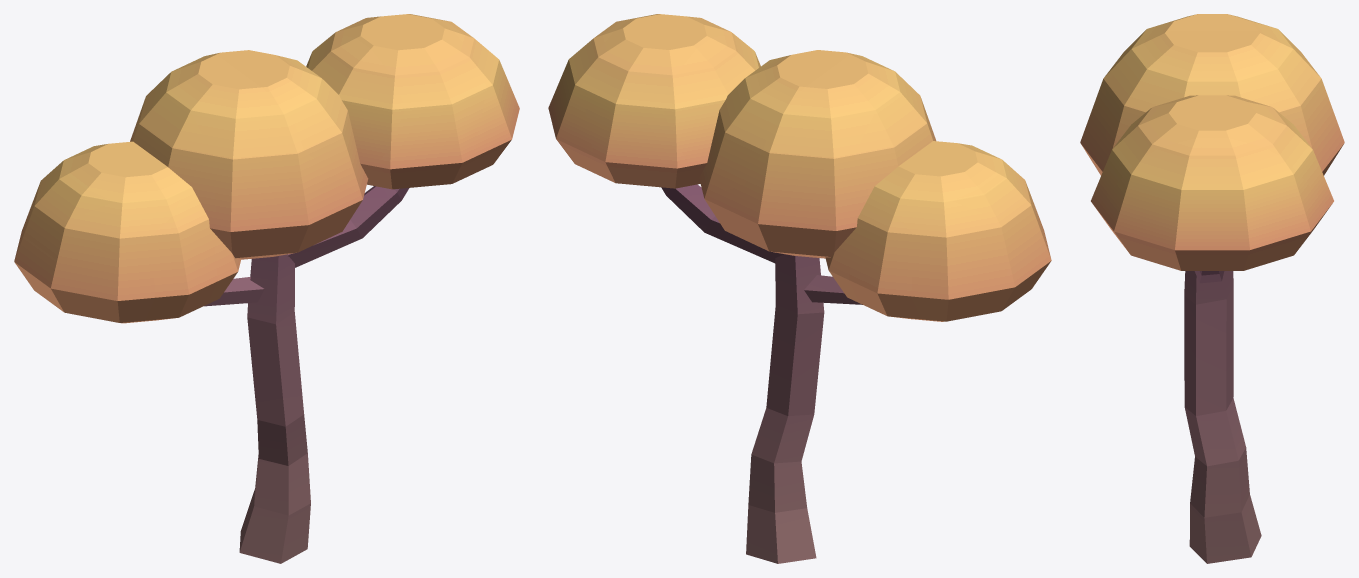
File: long_tree_1.gltf
3 views of the same model, side by side, from view 1: azimuth 30°, elevation 25°; view 2: azimuth 150°, elevation 25°; view 3: azimuth 270°, elevation 25° (orthographic). The views are drawn at different scales.
Visible parts, largest first — view 1: Object_5; view 2: Object_5; view 3: Object_5.
Boxes of the visible parts, <box> form: Object_5: <box>14,14,519,563</box>; Object_5: <box>548,14,1051,563</box>; Object_5: <box>1080,14,1344,563</box>.
Bounding box in the file's own units: 9.7 × 9.73 × 4.66.
Materials: 1 (1 with a texture image).
